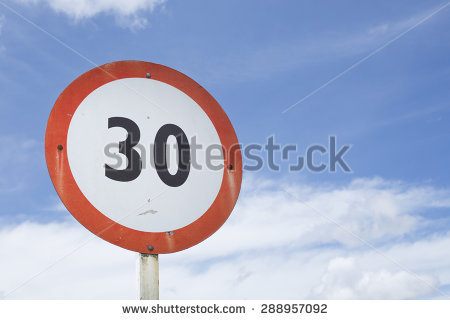Speed_limit_30km: (48, 58, 243, 254)
